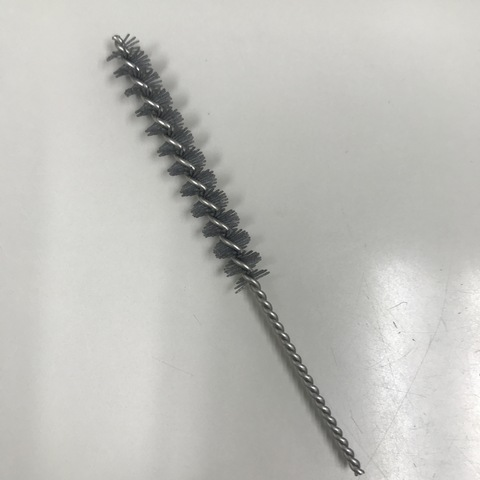Twist Brush-A: (101, 29, 377, 479)
